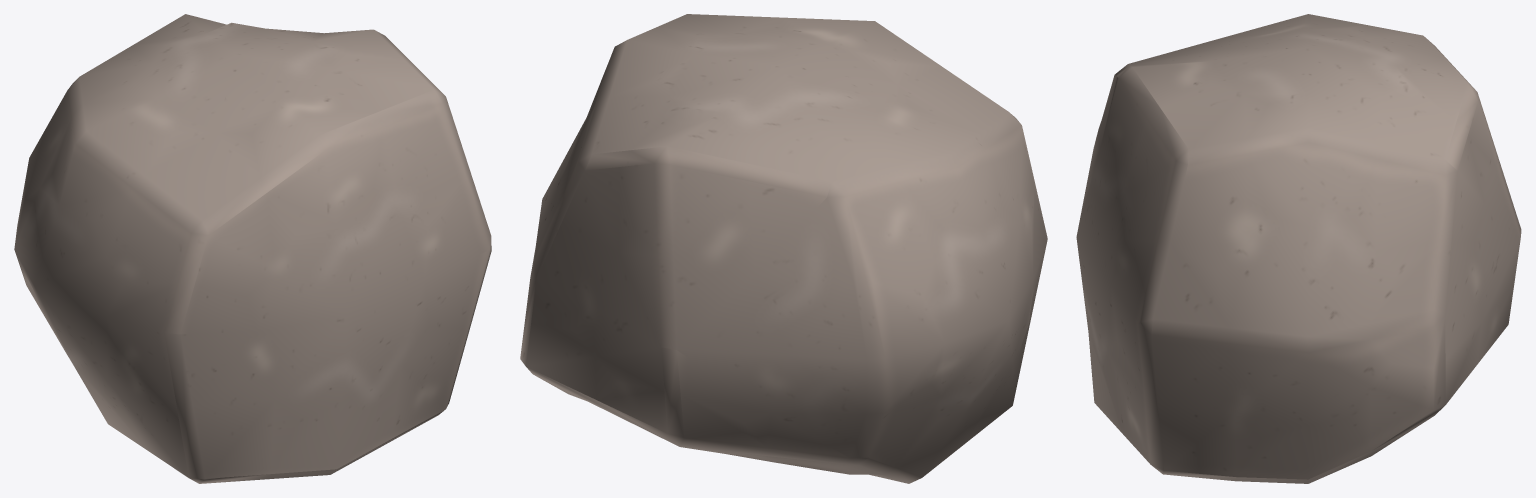
Rendered from Stone.fbx.
3 views of the same model, side by side, from view 1: azimuth 30°, elevation 25°; view 2: azimuth 150°, elevation 25°; view 3: azimuth 270°, elevation 25° (orthographic). The views are drawn at different scales.
Visible parts, largest first — view 1: stone; view 2: stone; view 3: stone.
Boxes of the visible parts, x1=… form: stone: x1=14, y1=14, x2=491, y2=483; stone: x1=520, y1=14, x2=1047, y2=483; stone: x1=1076, y1=14, x2=1521, y2=483.
Bounding box in the file's own units: 95.09 × 77.45 × 83.51.
